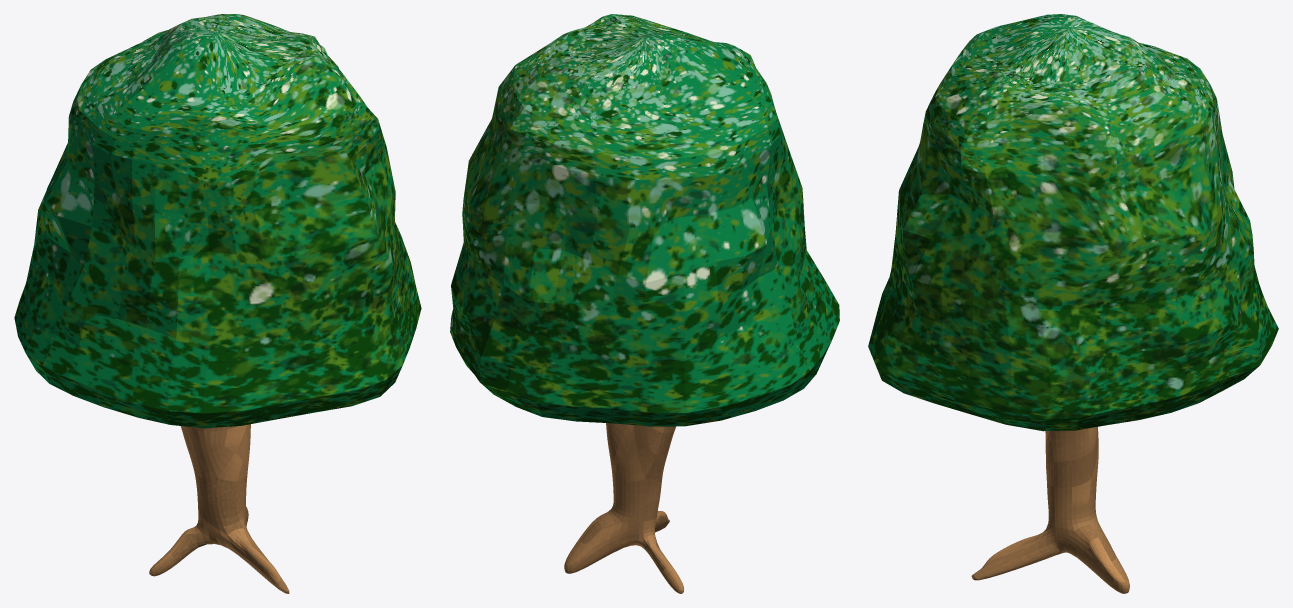
3 views of the same model, side by side, from view 1: azimuth 30°, elevation 25°; view 2: azimuth 150°, elevation 25°; view 3: azimuth 270°, elevation 25° (orthographic). The views are drawn at different scales.
Parts seen in each view (by area): view 1: 球, 立方体; view 2: 球, 立方体; view 3: 球, 立方体.
Part boxes in pixels (x1,y1,x2,y2): 球: (14, 14, 421, 428); 立方体: (149, 424, 289, 593); 球: (450, 14, 839, 426); 立方体: (564, 423, 684, 593); 球: (868, 14, 1278, 431); 立方体: (971, 427, 1129, 593).
Bounding box in the file's own units: 3.66 × 5.28 × 3.58.
Materials: 2 (2 with a texture image).
